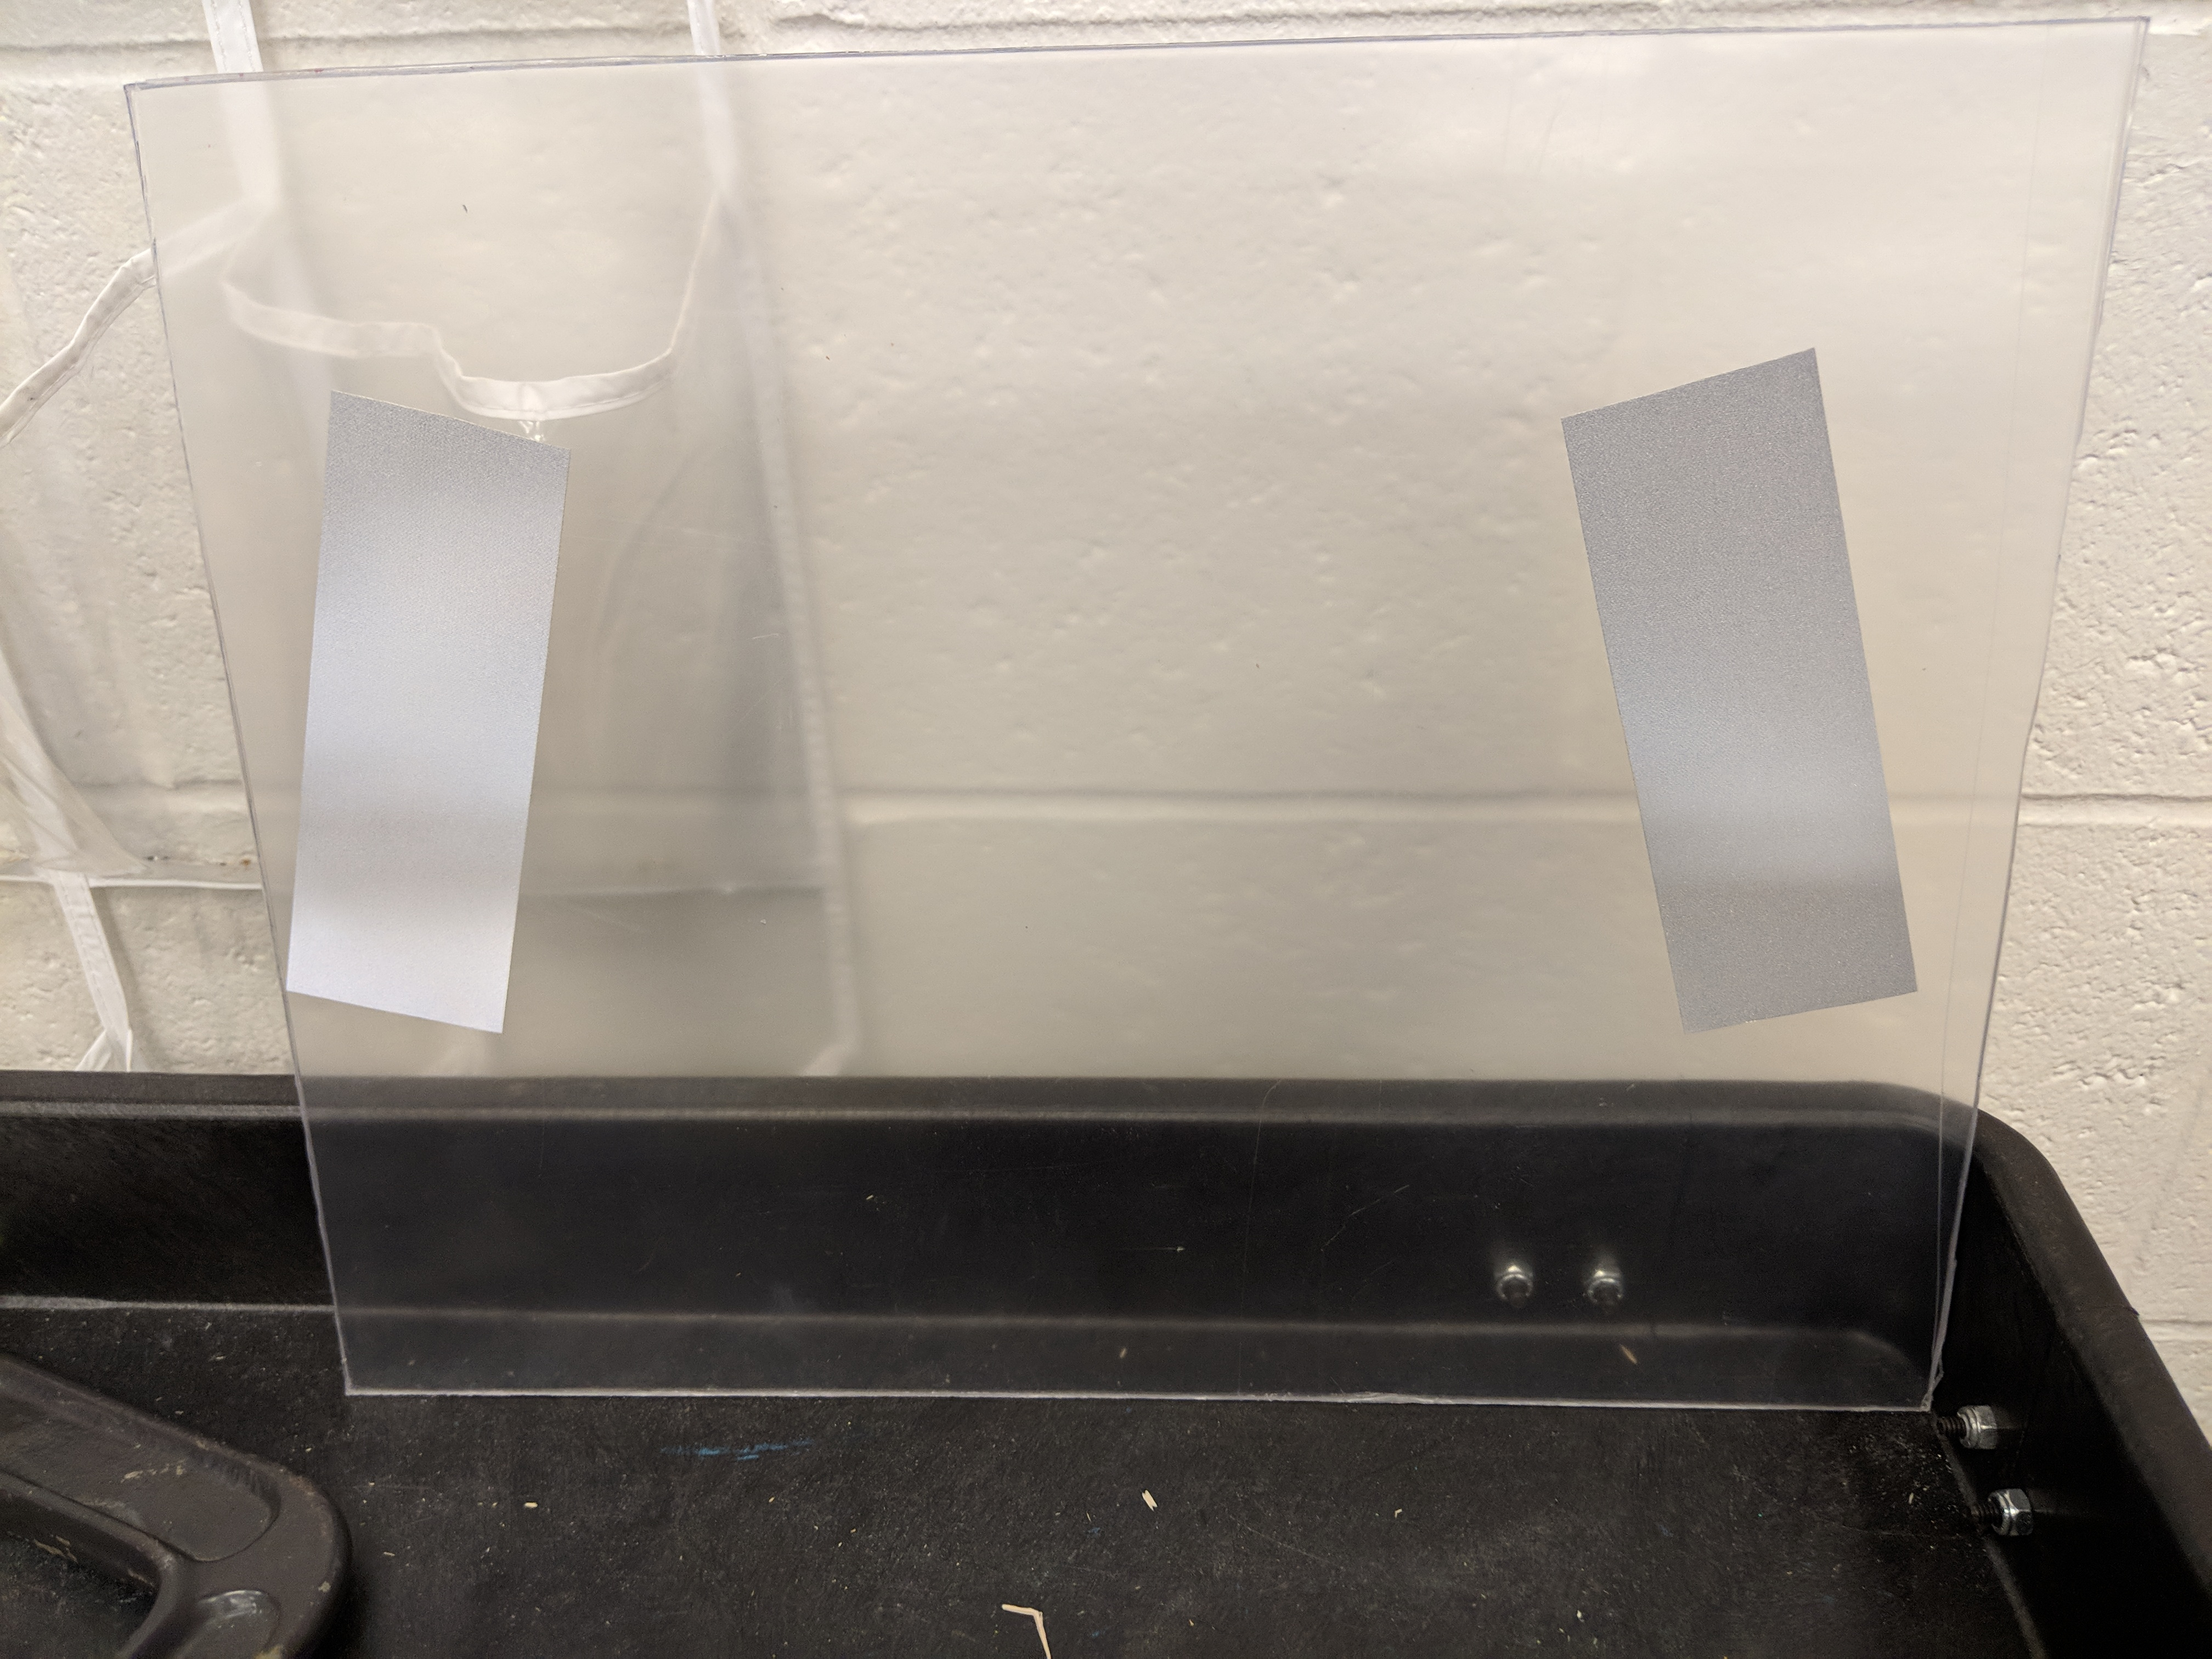vision_target: (273, 331, 1930, 1044)
